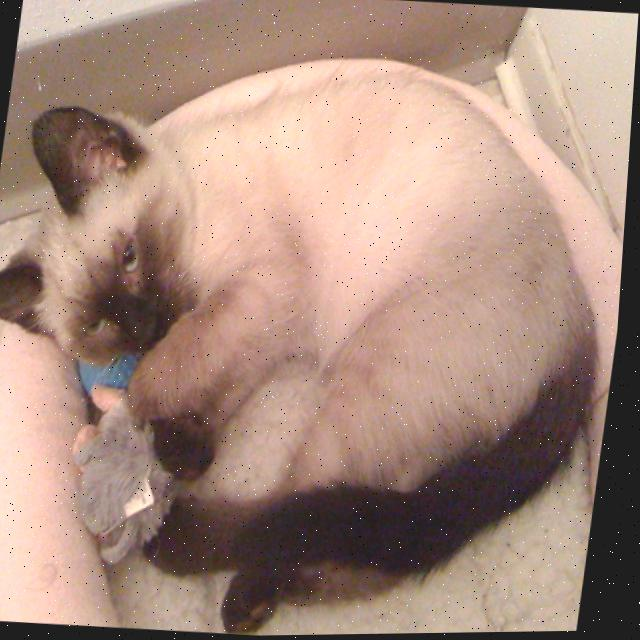Siamese: (0, 35, 638, 640)
